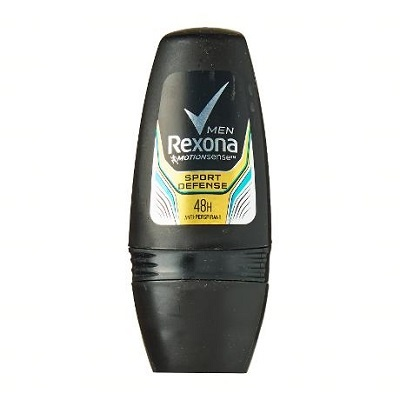rexona: (124, 23, 270, 376)
